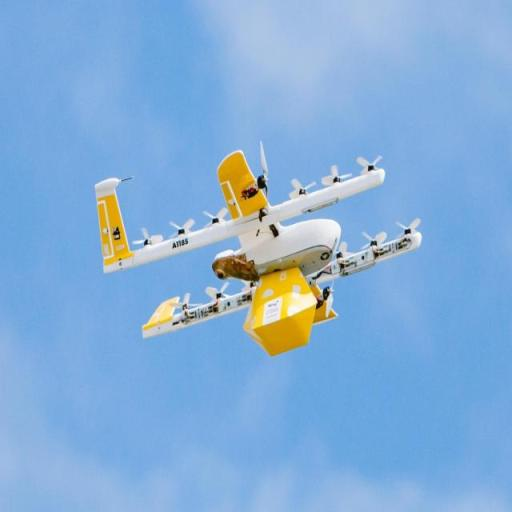uav: (75, 150, 435, 352)
